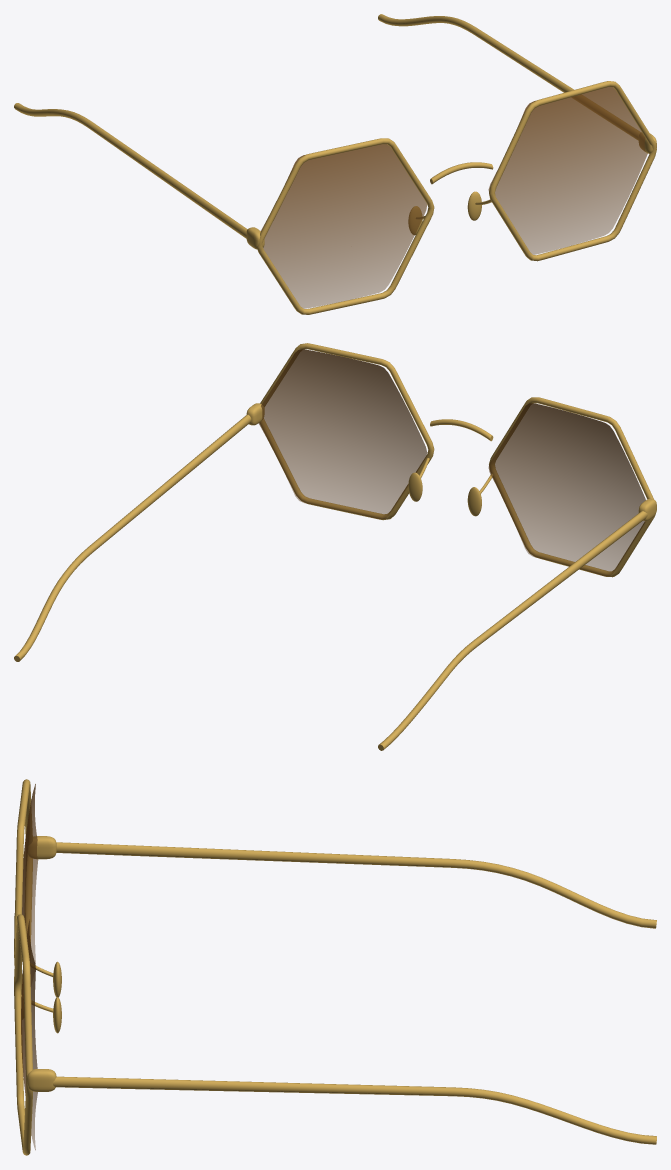
The picture shows the model from 3 angles, top to bottom: view 1: azimuth 30°, elevation 25°; view 2: azimuth 150°, elevation 25°; view 3: azimuth 270°, elevation 25°; orthographic projection. The views are drawn at different scales.
Parts seen in each view (by area): view 1: lenses, frame; view 2: lenses, frame; view 3: frame, lenses.
Part boxes in pixels (left/top/right/bottom): lenses: left=261, top=87, right=647, bottom=308; frame: left=14, top=14, right=656, bottom=314; lenses: left=258, top=349, right=645, bottom=576; frame: left=14, top=343, right=656, bottom=750; frame: left=14, top=779, right=656, bottom=1155; lenses: left=21, top=784, right=38, bottom=1149.
Size of the model in its own units: 0.1273 by 0.0485 by 0.1449.
